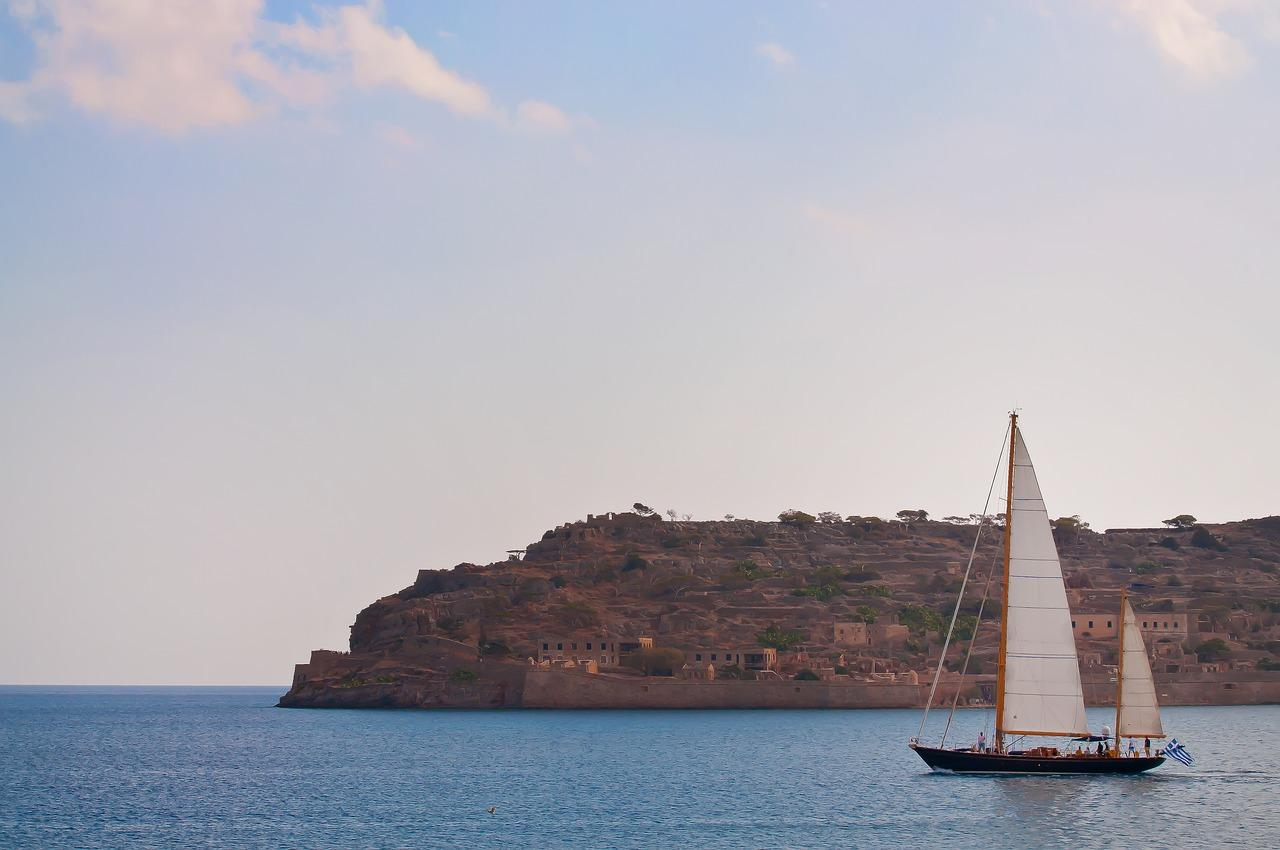Ship: (906, 410, 1193, 781)
